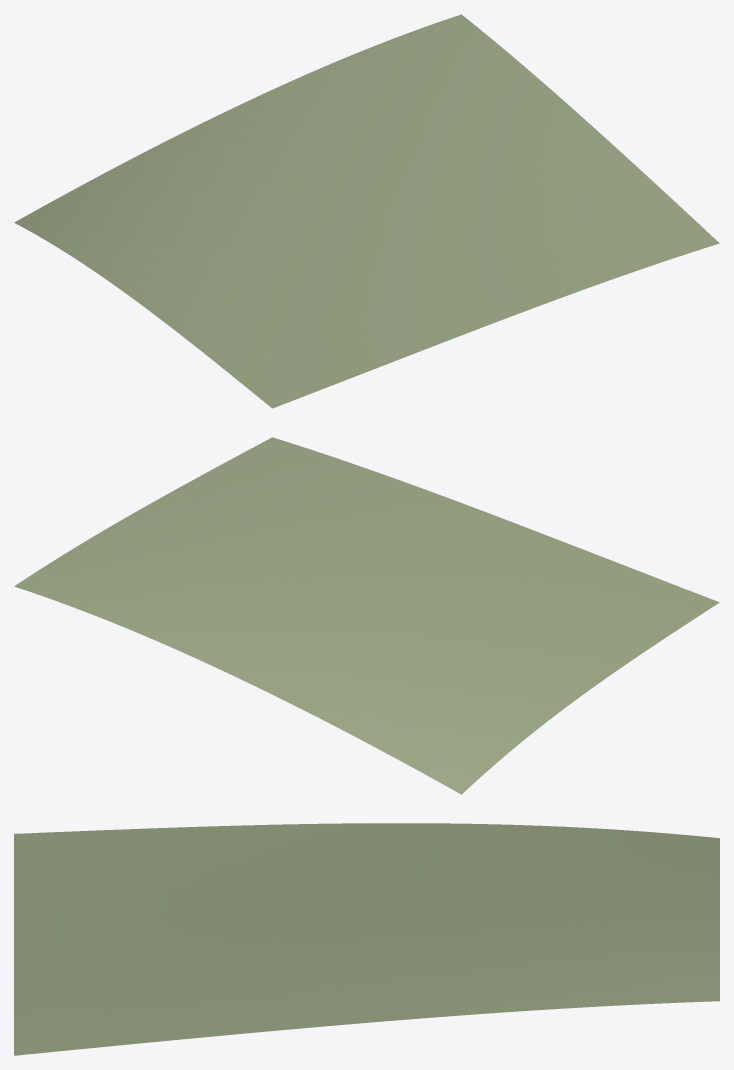
The model's file is expanse-16-18.glb.
3 renders of one model, top to bottom at view 1: azimuth 30°, elevation 25°; view 2: azimuth 150°, elevation 25°; view 3: azimuth 270°, elevation 25°, orthographic. The views are drawn at different scales.
Parts seen in each view (by area): view 1: expanse-16-18; view 2: expanse-16-18; view 3: expanse-16-18.
Boxes of the visible parts, bbox=[...] form: expanse-16-18: bbox=[14, 14, 719, 408]; expanse-16-18: bbox=[14, 437, 719, 794]; expanse-16-18: bbox=[14, 823, 719, 1055].
Size of the model in its own units: 256 by 54.16 by 256.
